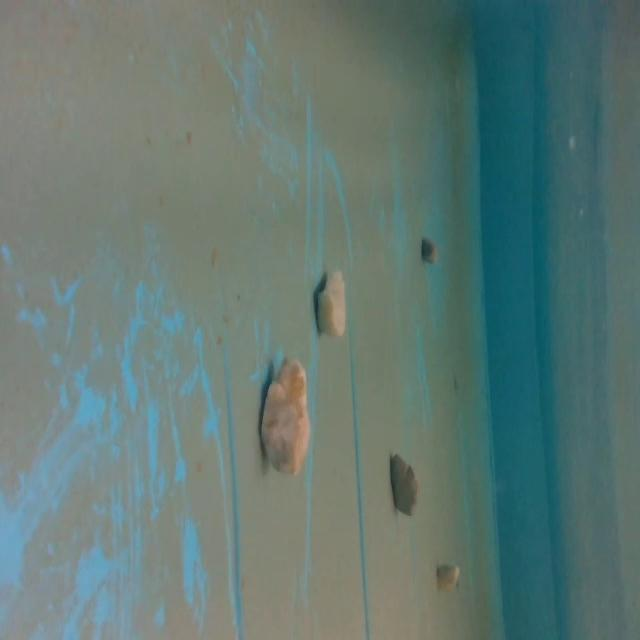rock: (257, 353, 315, 479), (314, 266, 349, 341), (388, 450, 422, 518), (434, 560, 463, 596), (416, 235, 440, 262)
